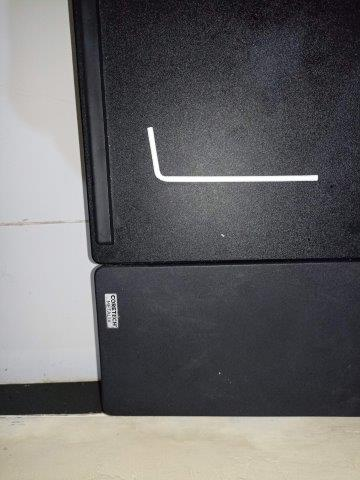sedotan: (147, 126, 318, 183)
